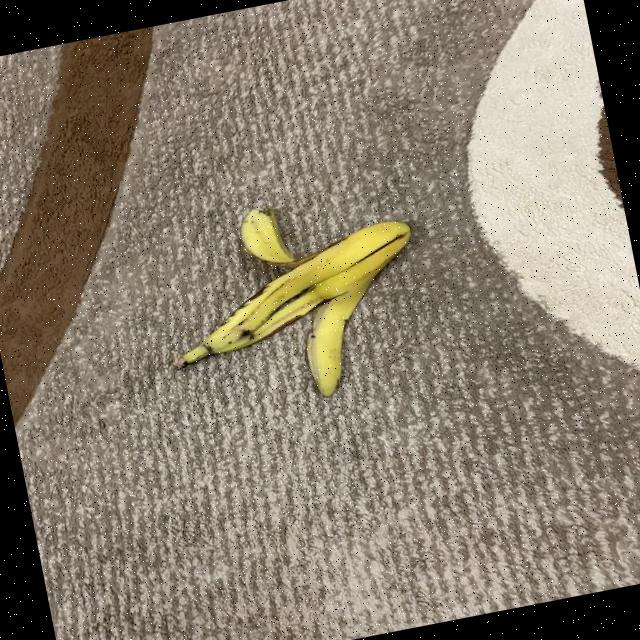banana-peel: (148, 179, 438, 425)
